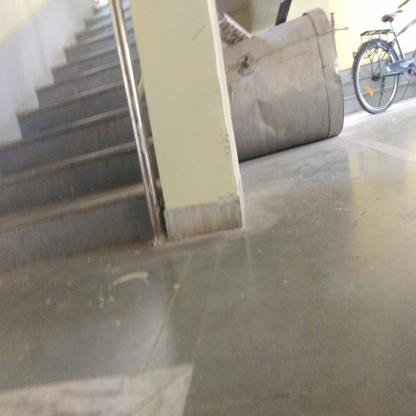stairs: (54, 62, 118, 267)
